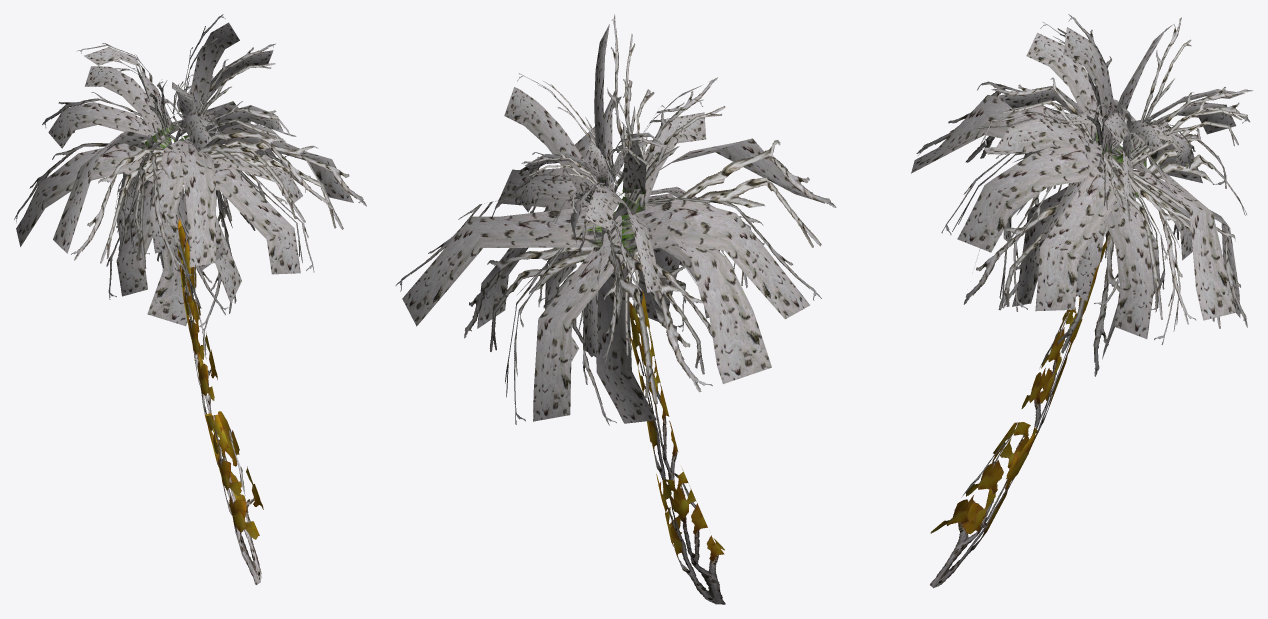
Rendered from furni_0200805.FBX.
The picture shows the model from 3 angles, left to right: view 1: azimuth 30°, elevation 25°; view 2: azimuth 150°, elevation 25°; view 3: azimuth 270°, elevation 25°; orthographic projection. The views are drawn at different scales.
Visible parts, largest first — view 1: furni_0200805; view 2: furni_0200805; view 3: furni_0200805.
Part boxes in pixels (x1,y1,x2,y2): furni_0200805: (14,14,366,584); furni_0200805: (395,14,836,604); furni_0200805: (911,14,1253,588).
Bounding box in the file's own units: 317 × 540 × 324.
